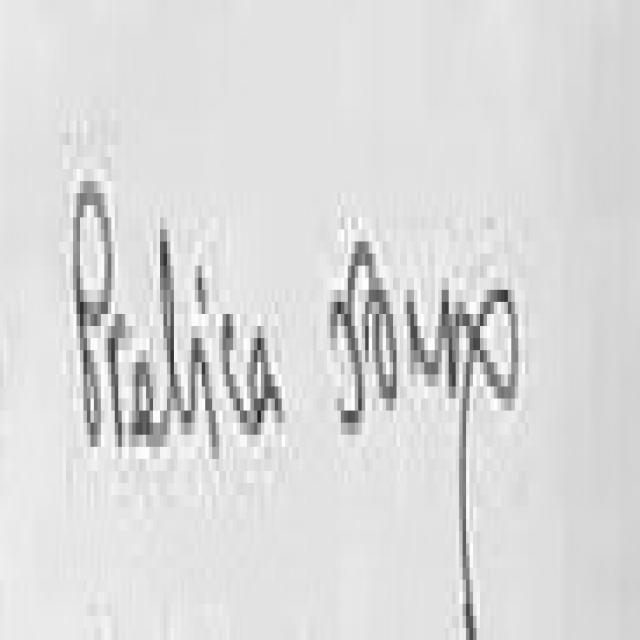0: (365, 278, 400, 411)
5: (330, 242, 376, 423)
P: (73, 181, 115, 456)
a: (249, 338, 284, 433)
c: (223, 314, 250, 435)
e: (132, 362, 170, 447)
g: (459, 290, 522, 640)
i: (191, 338, 219, 453), (195, 266, 209, 314)
l: (160, 229, 188, 441)
m: (407, 290, 459, 398)
r: (108, 314, 125, 447)
